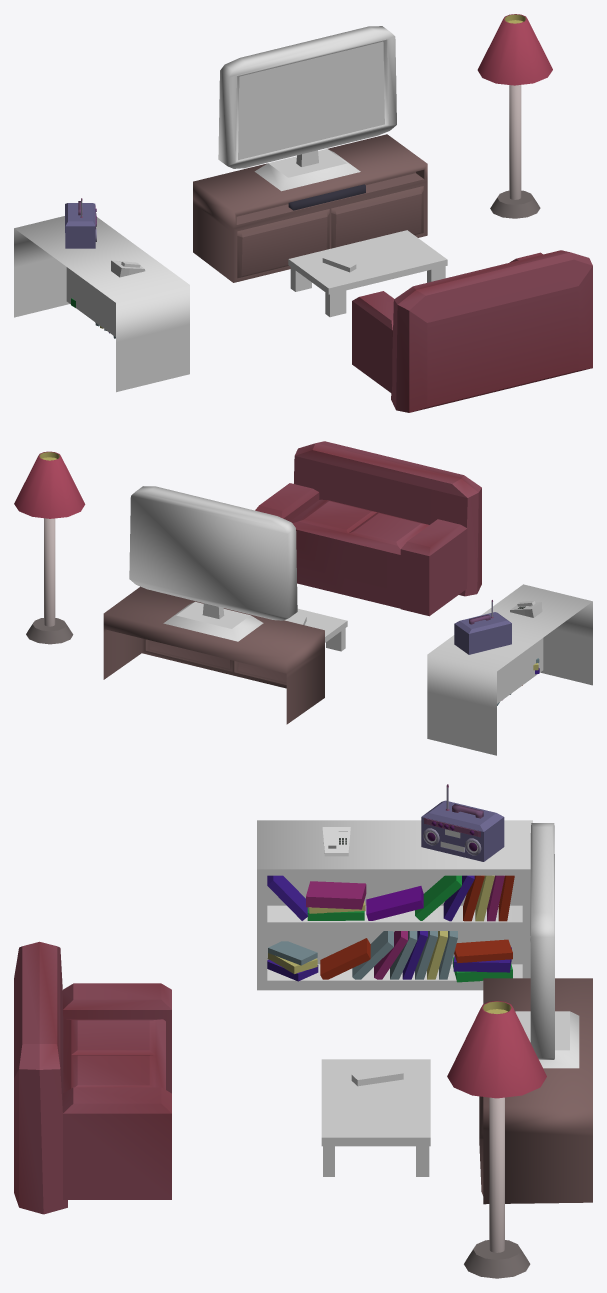
Rendered from LivingRoom.fbx.
3 views of the same model, one above another, from view 1: azimuth 30°, elevation 25°; view 2: azimuth 150°, elevation 25°; view 3: azimuth 270°, elevation 25° (orthographic). The views are drawn at different scales.
Parts seen in each view (by area): view 1: Sofa, TvFurniture, Bookshelf, TV_Emissive, TV, Table_Center, Abajour, Radio; view 2: Sofa, TV, Bookshelf, TvFurniture, Abajour, Radio, Table_Center; view 3: Sofa, Bookshelf, Books, TvFurniture, Abajour, Table_Center, TV, Radio, Phone, Cube.
Boxes of the visible parts, x1,y1,x2,y2 form: Sofa: (352,250,592,412); TvFurniture: (193,134,427,282); Bookshelf: (14,216,189,392); TV_Emissive: (238,41,384,160); TV: (218,26,396,191); Table_Center: (288,230,447,317); Abajour: (477,14,552,218); Radio: (65,198,96,248); Sofa: (255,441,481,616); TV: (129,486,297,641); Bookshelf: (427,584,592,755); TvFurniture: (103,586,324,724); Abajour: (14,451,85,644); Radio: (454,600,511,654); Table_Center: (284,608,347,651); Sofa: (14,941,171,1214); Bookshelf: (257,820,532,990); Books: (267,875,514,982); TvFurniture: (479,978,592,1204); Abajour: (447,1000,546,1278); Table_Center: (321,1059,430,1176); TV: (515,823,579,1068); Radio: (421,784,504,861); Phone: (322,827,350,856); Cube: (351,1067,403,1086).
Size of the model in its own units: 1227 by 467 by 872.
